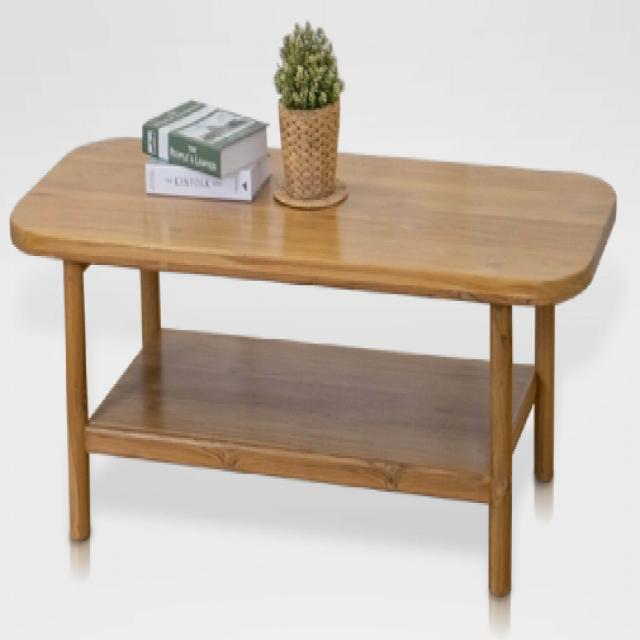table: (6, 99, 630, 640)
